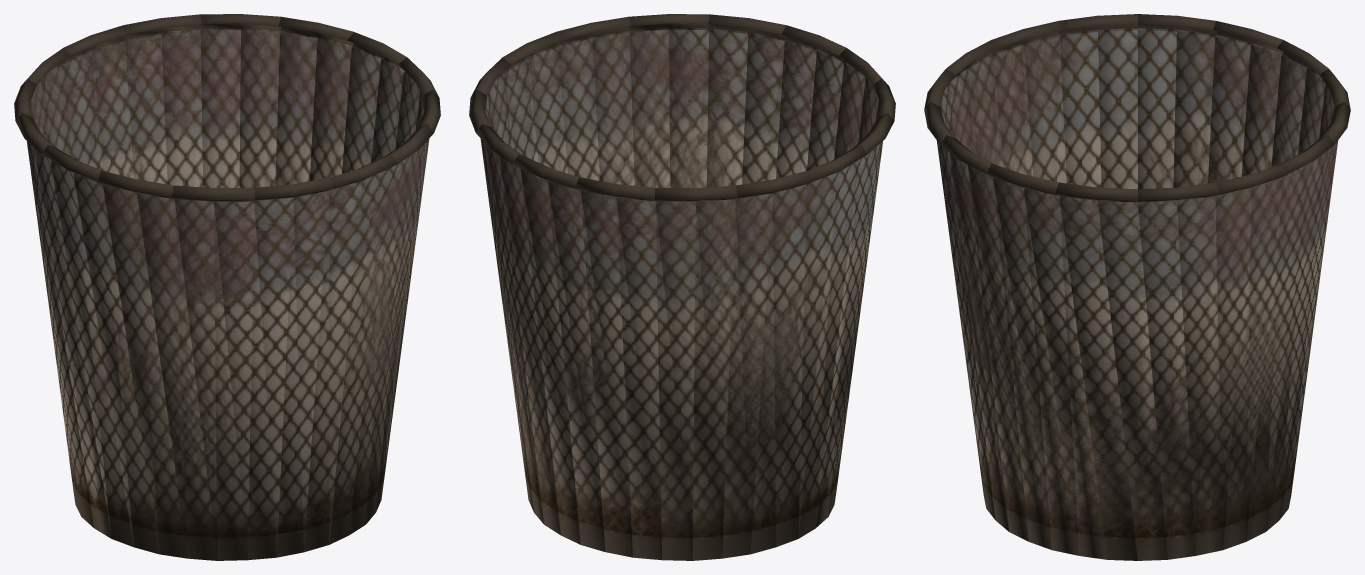
File: Trash.fbx
The picture shows the model from 3 angles, left to right: view 1: azimuth 30°, elevation 25°; view 2: azimuth 150°, elevation 25°; view 3: azimuth 270°, elevation 25°; orthographic projection.
Visible parts, largest first — view 1: tripo_node_49de630c-a830-4330-a233-2696a3aa7d77; view 2: tripo_node_49de630c-a830-4330-a233-2696a3aa7d77; view 3: tripo_node_49de630c-a830-4330-a233-2696a3aa7d77.
Part boxes in pixels (x1,y1,x2,y2): tripo_node_49de630c-a830-4330-a233-2696a3aa7d77: (14,14,440,560); tripo_node_49de630c-a830-4330-a233-2696a3aa7d77: (469,14,895,560); tripo_node_49de630c-a830-4330-a233-2696a3aa7d77: (924,14,1350,560).
Size of the model in its own units: 97.85 by 99.8 by 97.85.
Materials: 1 (1 with a texture image).
